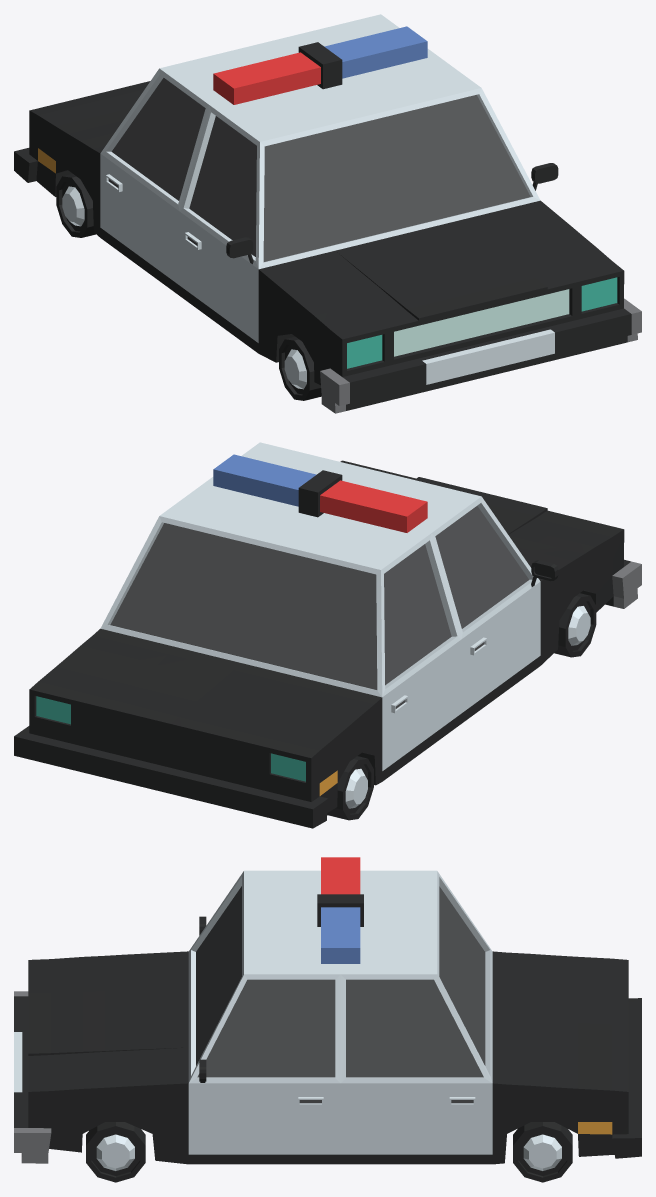
Rendered from police_car_0923.fbx.
3 views of the same model, one above another, from view 1: azimuth 30°, elevation 25°; view 2: azimuth 150°, elevation 25°; view 3: azimuth 270°, elevation 25° (orthographic). The views are drawn at different scales.
Parts seen in each view (by area): view 1: car, warning light, wheel; view 2: car, warning light, wheel; view 3: car, wheel, warning light.
Part boxes in pixels (<box>): car: <box>14,14,641,413</box>; warning light: <box>213,26,427,104</box>; wheel: <box>56,174,321,400</box>; car: <box>14,442,641,828</box>; warning light: <box>213,454,427,532</box>; wheel: <box>327,593,596,820</box>; car: <box>14,870,641,1164</box>; wheel: <box>86,1122,572,1182</box>; warning light: <box>317,857,363,963</box>.
Size of the model in its own units: 27.54 by 47.5 by 18.06.
